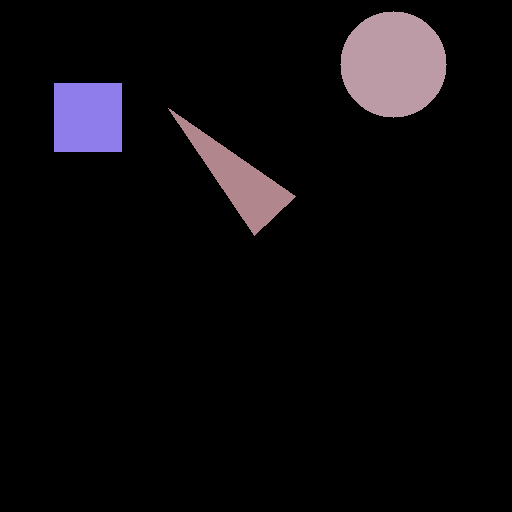circle: (340, 11, 446, 117)
square: (54, 83, 121, 151)
triangle: (168, 108, 295, 235)
